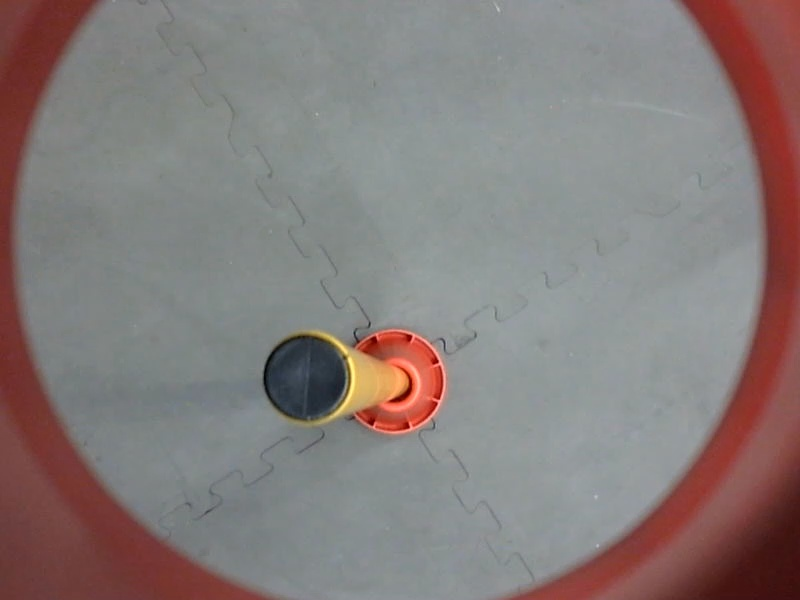tip: (257, 324, 362, 433)
